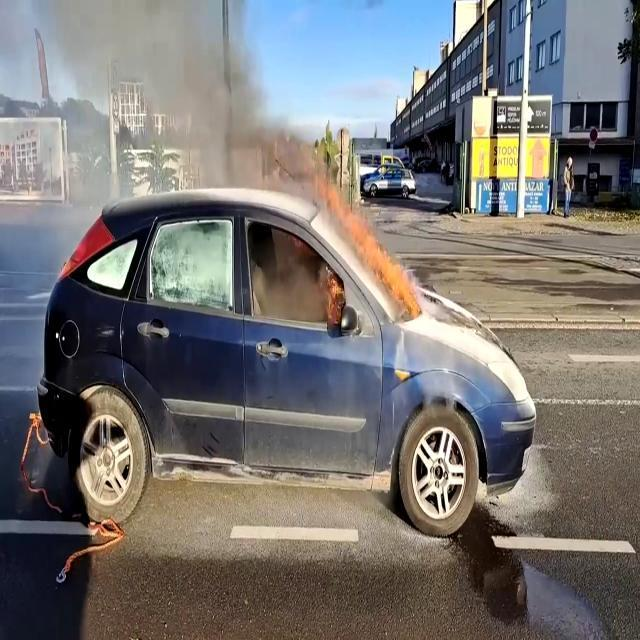Smoke: (0, 0, 334, 218)
